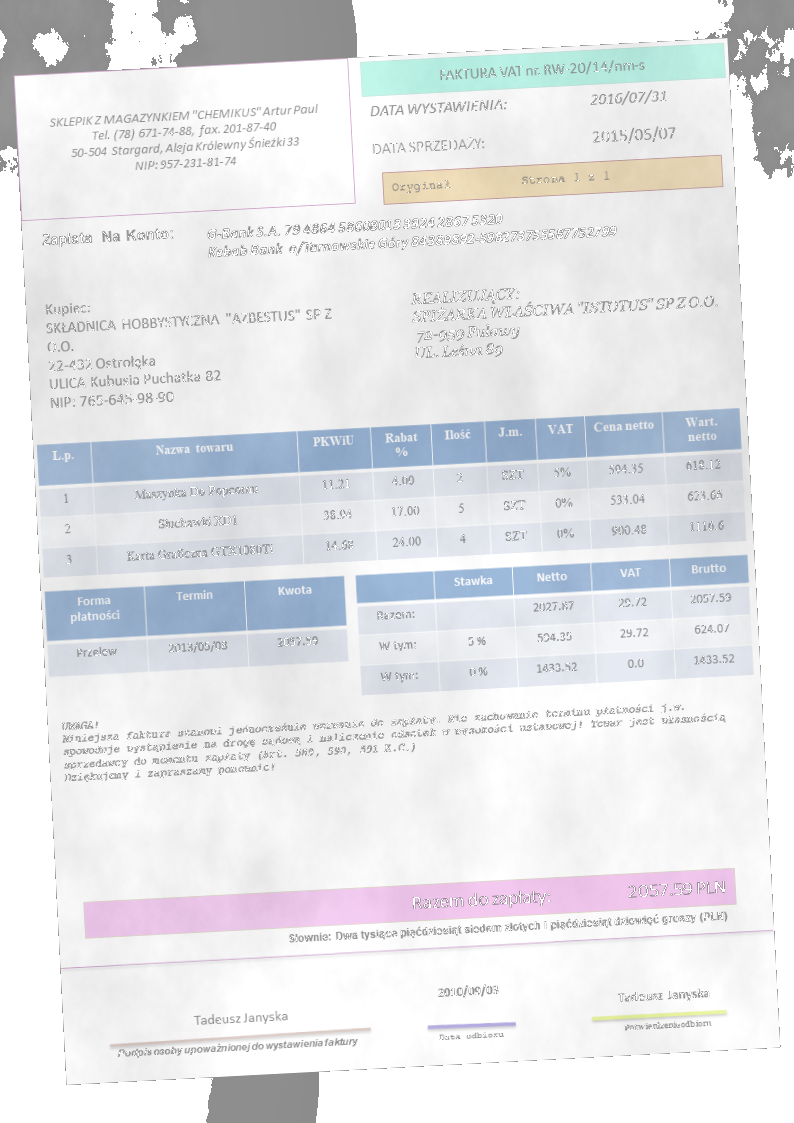Table: (35, 406, 748, 580), (353, 553, 755, 697), (42, 574, 350, 679)
TextBox: (59, 682, 732, 786), (41, 285, 339, 411), (406, 273, 724, 365), (203, 202, 620, 262), (44, 96, 324, 180), (285, 906, 730, 948), (408, 873, 730, 914), (113, 1030, 361, 1062), (435, 51, 647, 87), (389, 166, 614, 197), (367, 93, 510, 120), (39, 223, 175, 249), (368, 131, 487, 160), (616, 982, 714, 1007), (588, 122, 680, 148), (191, 1006, 291, 1029), (586, 85, 669, 109), (622, 1017, 714, 1035), (434, 979, 501, 1001), (436, 1027, 506, 1045)
